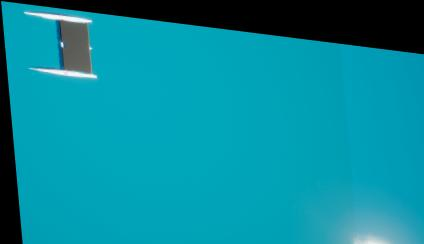boat: (19, 3, 99, 79)
drone: (59, 19, 88, 69)
land_base: (313, 187, 424, 244)
